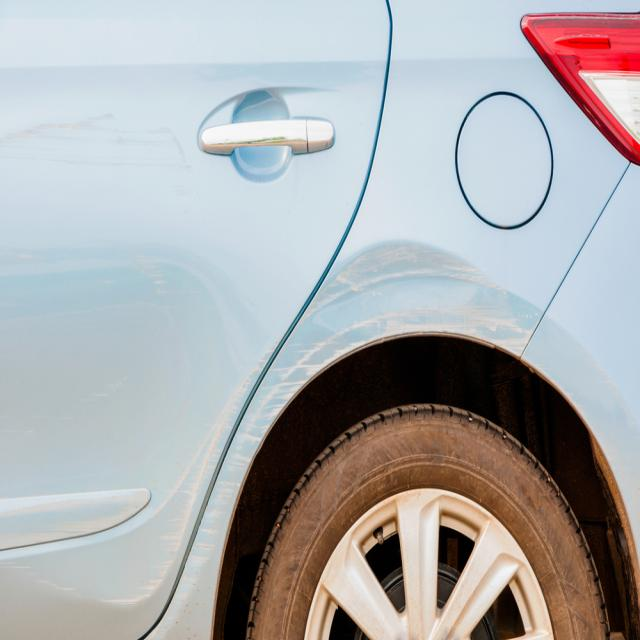dent: (312, 239, 477, 345)
scratch: (11, 349, 270, 612), (180, 305, 355, 587), (0, 104, 191, 178), (465, 268, 532, 358)
